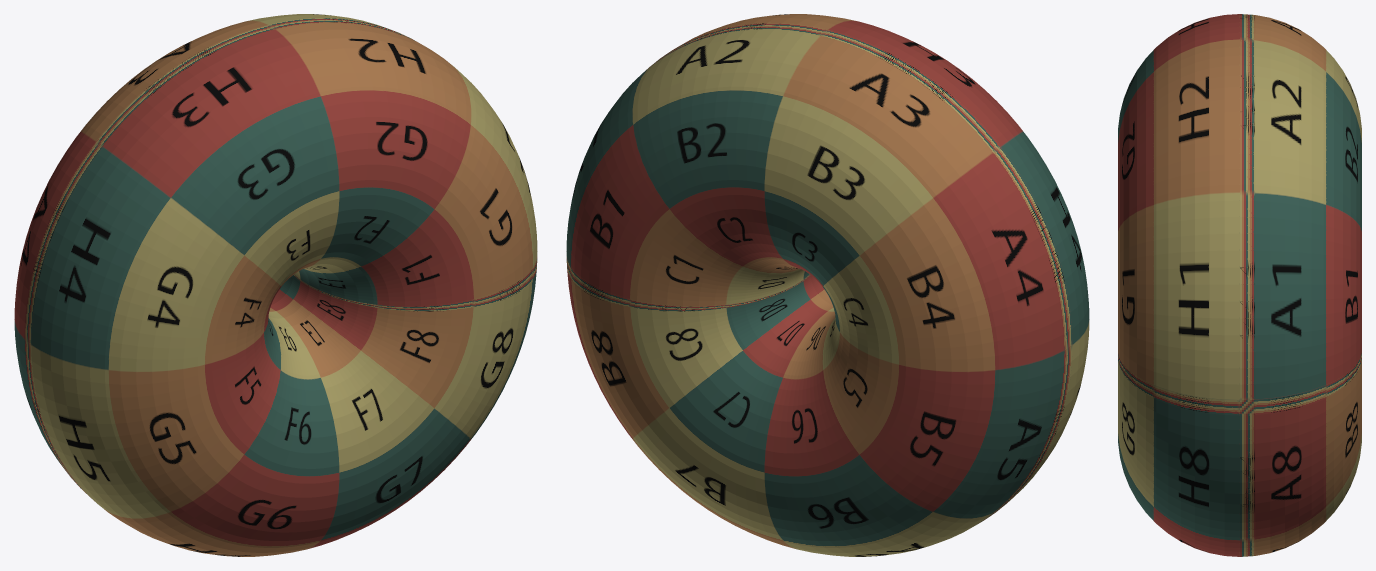
Rendered from texture_torus_R1_r9.glb.
3 views of the same model, side by side, from view 1: azimuth 30°, elevation 25°; view 2: azimuth 150°, elevation 25°; view 3: azimuth 270°, elevation 25° (orthographic). The views are drawn at different scales.
Parts seen in each view (by area): view 1: world; view 2: world; view 3: world.
Boxes of the visible parts, x1=… form: world: x1=14, y1=14, x2=537, y2=556; world: x1=566, y1=14, x2=1089, y2=556; world: x1=1118, y1=14, x2=1361, y2=556.
Bounding box in the file's own units: 22.22 × 22.22 × 9.98.
1 material, 1 textured.
